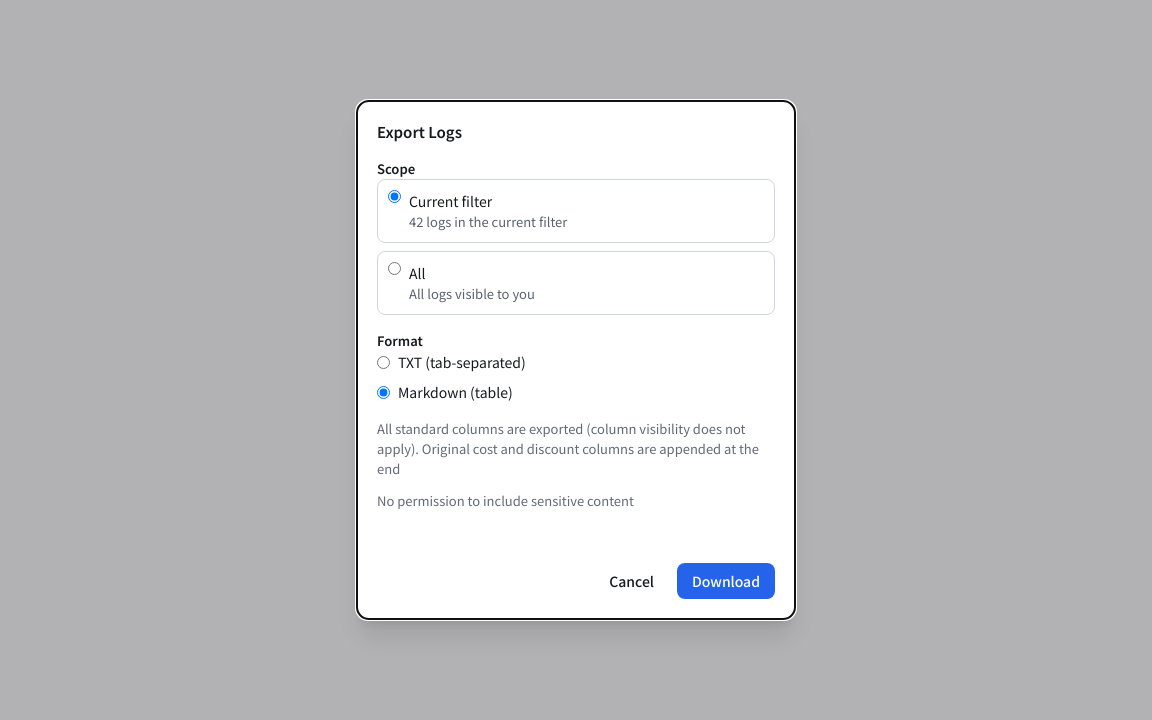
Test: ExportDialog (F-05-07) › keeps the dialog open and shows the row-limit error on 422
Click the button with test id "export-download": [726, 581] box [677,563,775,599]
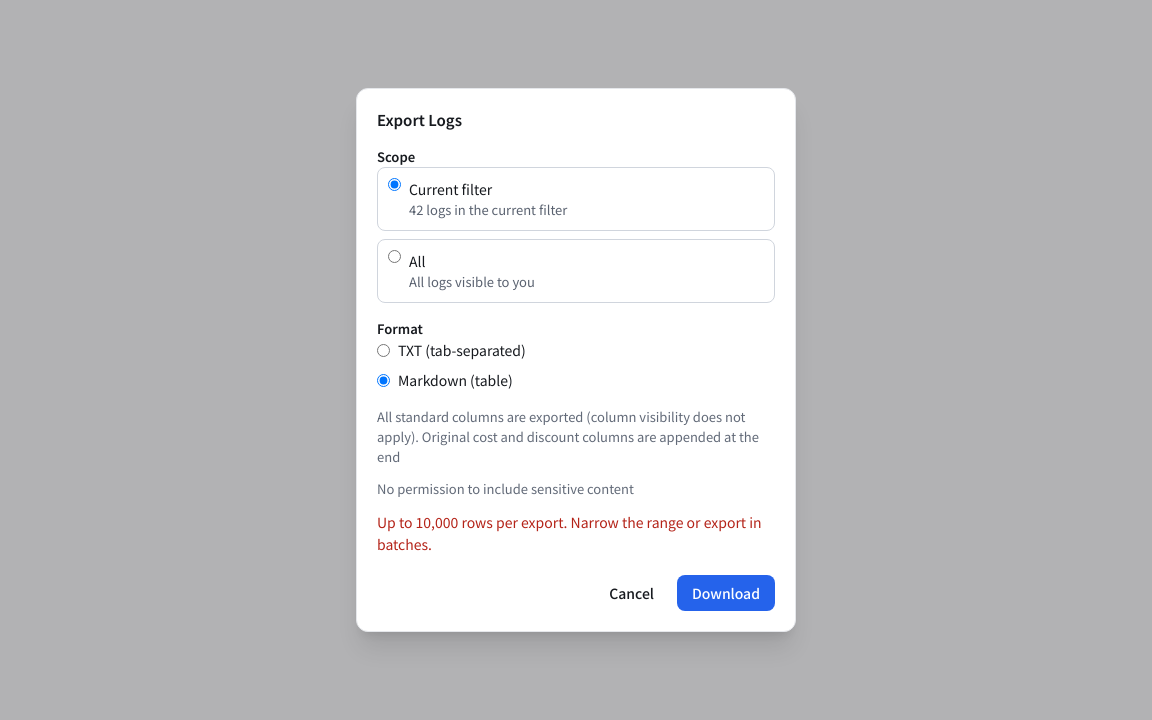
Expected: the button with test id "export-download" is shown, [677,575,775,611]
Now the text "Up to 10,000 rows per export. Narrow the range or export in batches." is shown, box [377,511,775,555]
